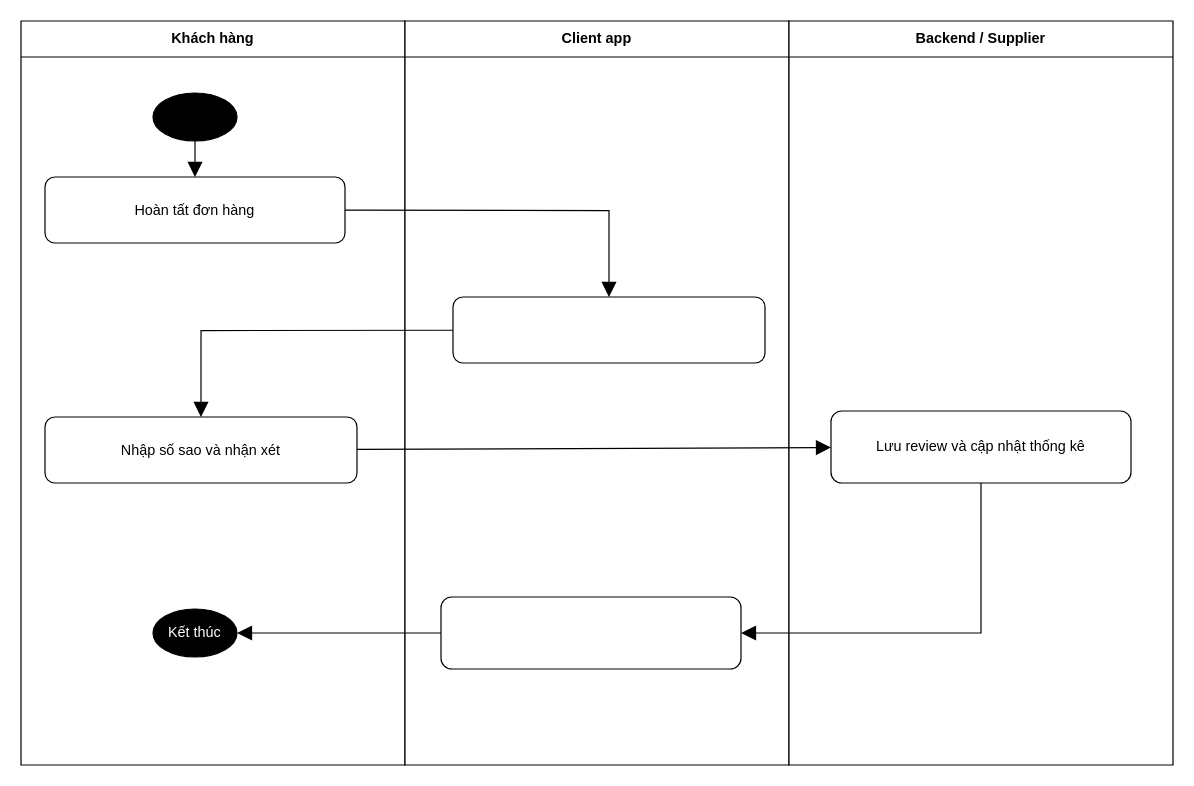
Image size: 1194x786. Some labels were removed from this diagram. The shapes that lost their labels are listed below. From the top down, each one's centre as x and y in pixels, then its label:
At point 194,116: "Bắt đầu".
At point 608,329: "Mở form đánh giá".
At point 590,632: "Supplier/Admin xem review trên dashboard".
